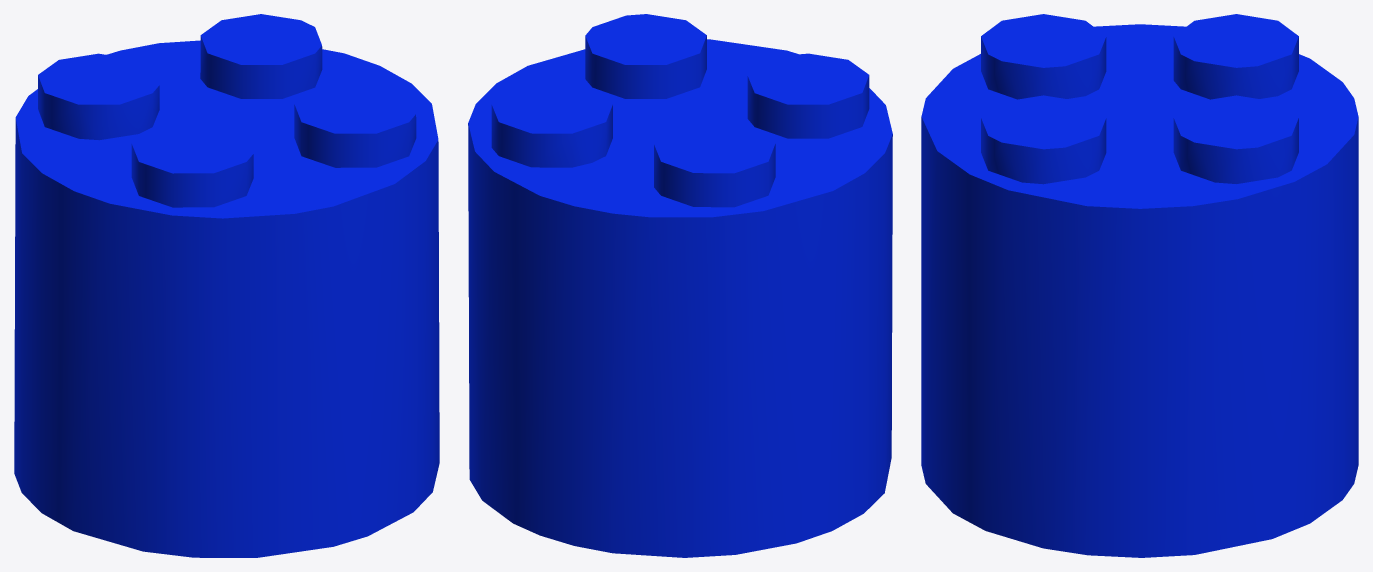
The model's file is LEGOcylindre_low.FBX.
The picture shows the model from 3 angles, left to right: view 1: azimuth 30°, elevation 25°; view 2: azimuth 150°, elevation 25°; view 3: azimuth 270°, elevation 25°; orthographic projection. The views are drawn at different scales.
Visible parts, largest first — view 1: LEGOcylindre_low; view 2: LEGOcylindre_low; view 3: LEGOcylindre_low.
Part boxes in pixels (bbox=[...]): LEGOcylindre_low: bbox=[14, 14, 439, 557]; LEGOcylindre_low: bbox=[468, 14, 892, 557]; LEGOcylindre_low: bbox=[921, 14, 1358, 557].
Bounding box in the file's own units: 4.47 × 4.33 × 4.47.
